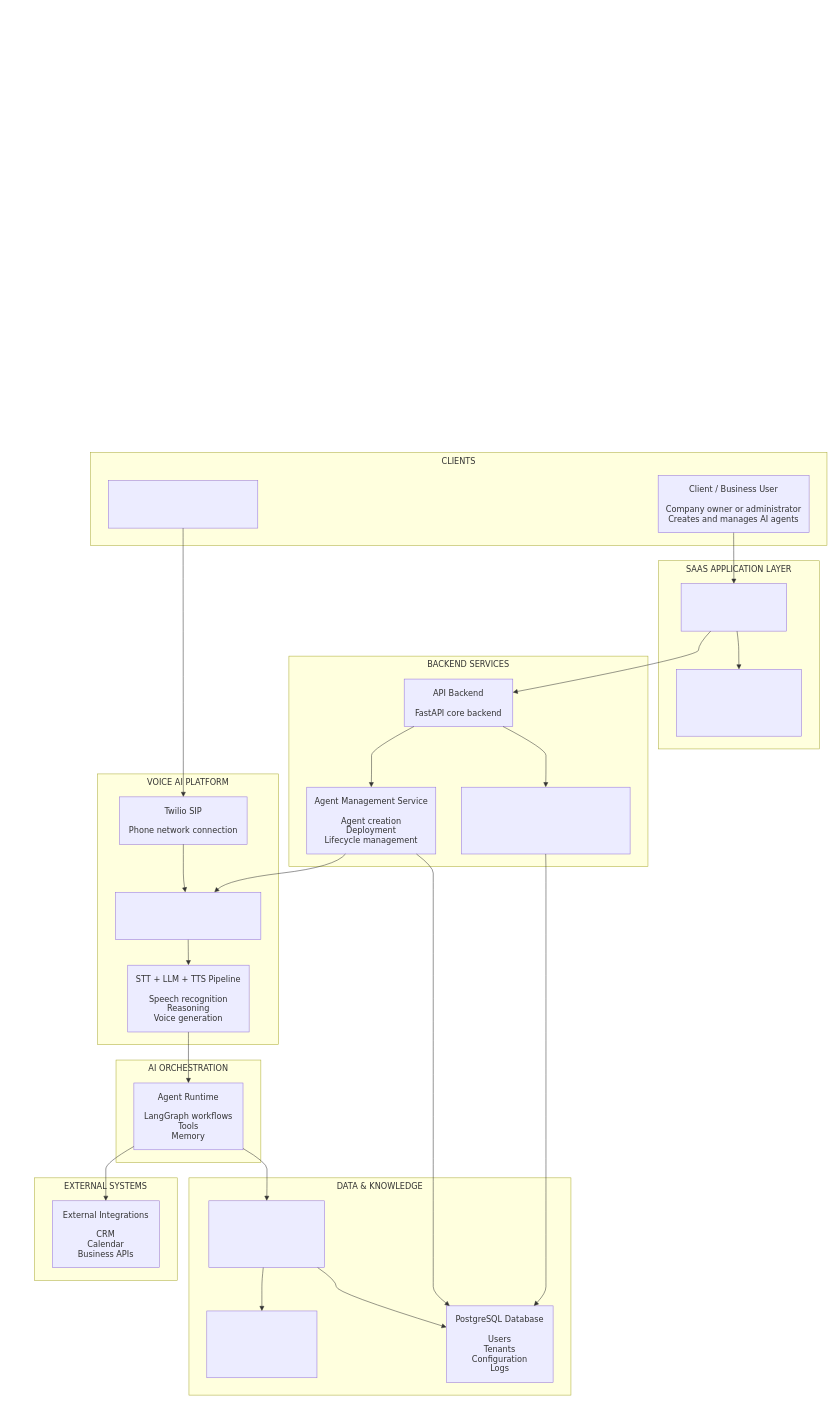
The diagram is 836 pixels wide and 1404 high, and some of its shapes have lost their labels. Here are the shapes that lost their labels. From the top down, the centre of each, then its label:
the point at 183,504: End Customer Person calling the AI voice agent
the point at 734,607: SaaS Web Dashboard Next.js frontend
the point at 738,702: Voice Agent Configuration Create agents Select voice Configure behavior
the point at 545,820: Authentication & Tenant Management Users Organizations Permissions
the point at 188,916: LiveKit Voice Agent Platform Real-time communication layer
the point at 266,1234: RAG Knowledge System Documents Embeddings Retrieval
the point at 261,1344: Redis Real-time state Conversation memory Caching
